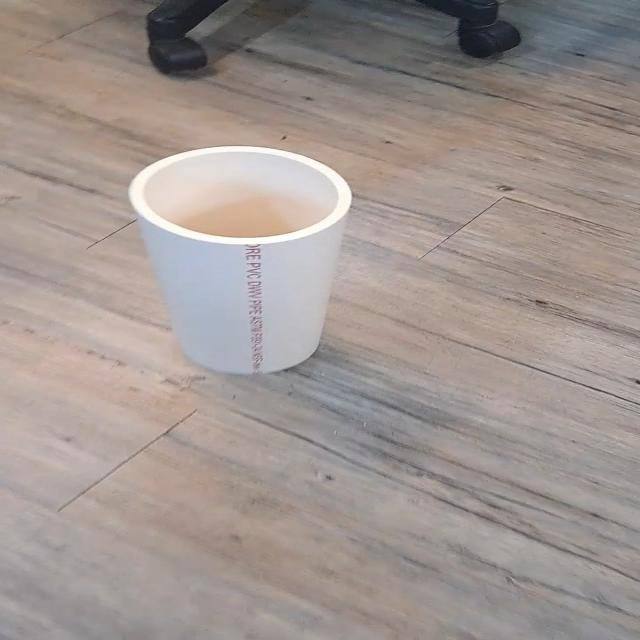CORAL: (131, 138, 362, 376)
